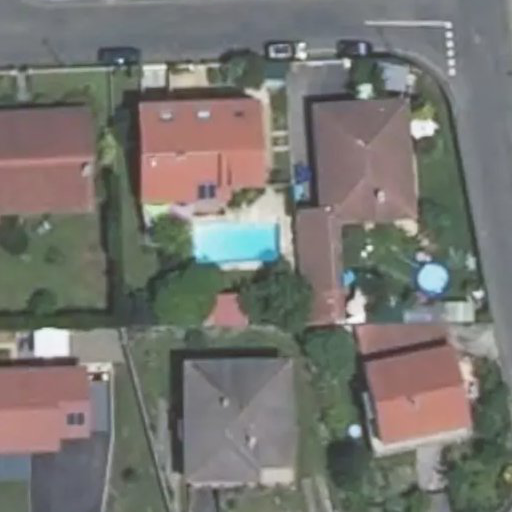pool: (210, 221, 301, 262)
